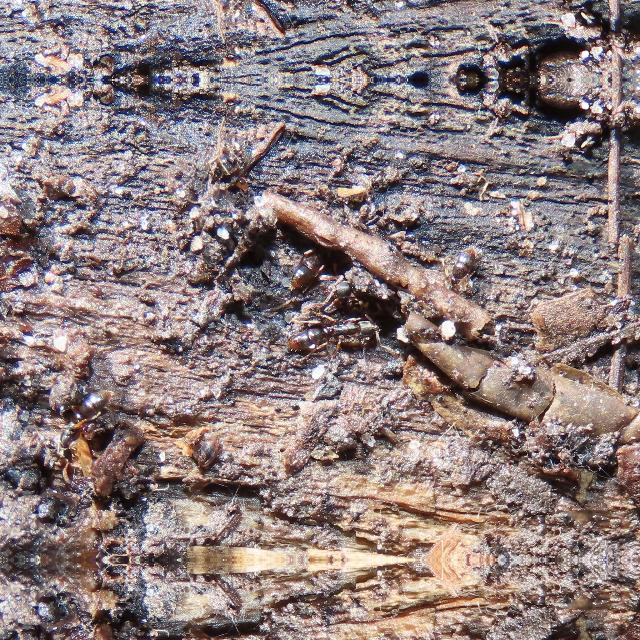Ponera: (38, 370, 110, 476), (294, 293, 378, 361), (280, 224, 348, 298)
